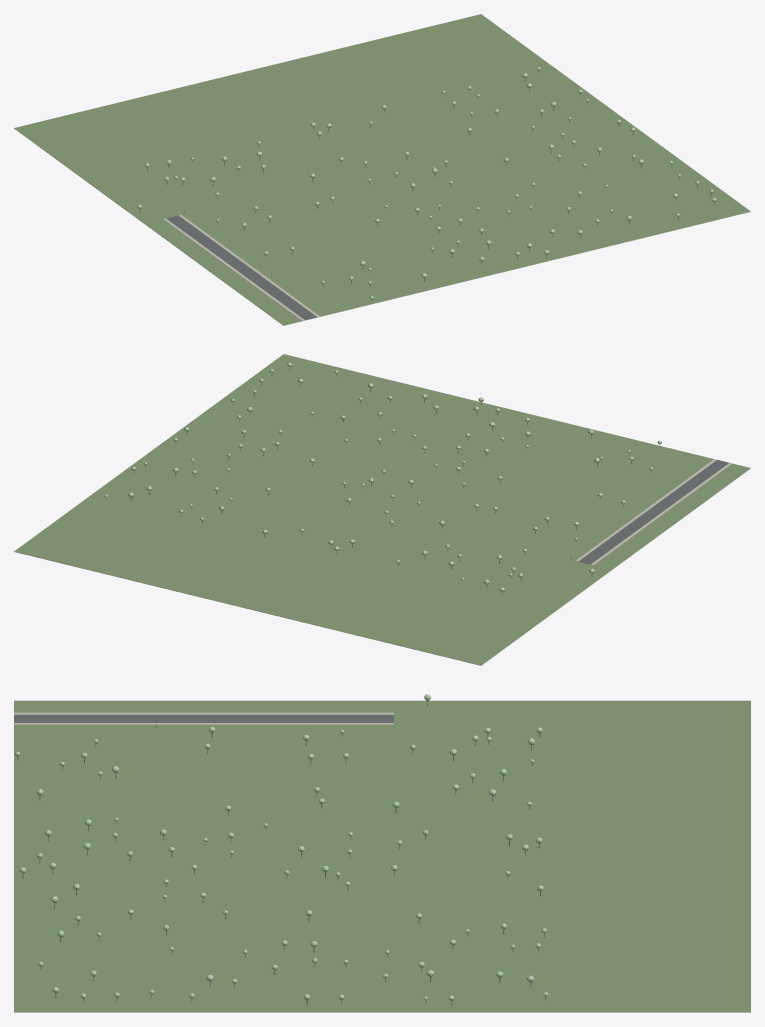
The model's file is chunk_4_0_high.glb.
3 views of the same model, one above another, from view 1: azimuth 30°, elevation 25°; view 2: azimuth 150°, elevation 25°; view 3: azimuth 270°, elevation 25° (orthographic). The views are drawn at different scales.
Parts seen in each view (by area): view 1: city_forest_floor, city_world_asphalt, city_foliage, city_world_sidewalk, city_grass, city_foliage_dark; view 2: city_forest_floor, city_world_asphalt, city_foliage, city_world_sidewalk, city_grass, city_foliage_dark; view 3: city_forest_floor, city_world_asphalt, city_foliage, city_world_sidewalk, city_foliage_dark, city_grass, city_bark.
Boxes of the visible parts, box(x1,y1,x2,y2) form: city_forest_floor: box(14, 14, 750, 325); city_world_asphalt: box(166, 215, 316, 320); city_foliage: box(137, 67, 716, 299); city_world_sidewalk: box(163, 214, 319, 320); city_grass: box(14, 128, 750, 325); city_foliage_dark: box(137, 67, 713, 298); city_forest_floor: box(14, 354, 750, 665); city_world_asphalt: box(578, 460, 729, 564); city_foliage: box(104, 362, 661, 591); city_world_sidewalk: box(575, 459, 732, 565); city_grass: box(14, 468, 750, 665); city_foliage_dark: box(104, 363, 661, 590); city_forest_floor: box(14, 700, 750, 1012); city_world_asphalt: box(14, 714, 393, 722); city_foliage: box(15, 694, 548, 1000); city_world_sidewalk: box(14, 712, 393, 724); city_foliage_dark: box(16, 696, 547, 1000); city_grass: box(14, 1012, 750, 1012); city_bark: box(17, 700, 545, 1005).
Size of the model in its own units: 512 by 9.71 by 512.
